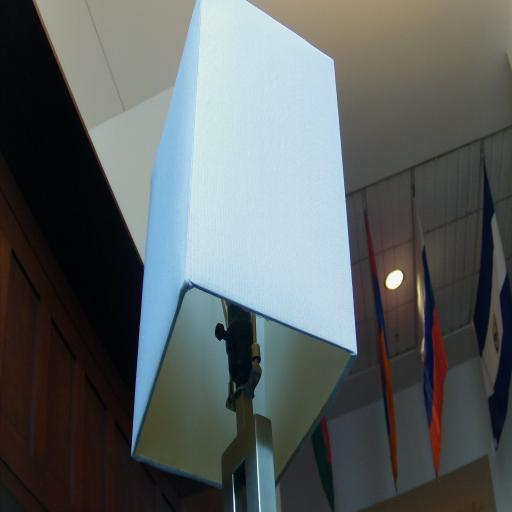lamp: (132, 0, 358, 512)
